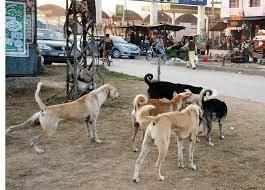normal_dogs: (17, 78, 122, 152), (128, 104, 202, 185), (130, 88, 193, 152), (144, 66, 211, 108), (196, 88, 235, 152)
